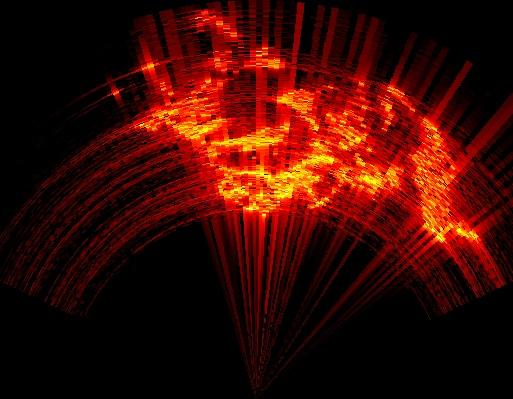shipwreck: (219, 110, 402, 210), (410, 119, 477, 241), (207, 122, 289, 162), (173, 111, 227, 143), (278, 90, 319, 132), (136, 105, 179, 133), (381, 87, 407, 127)
